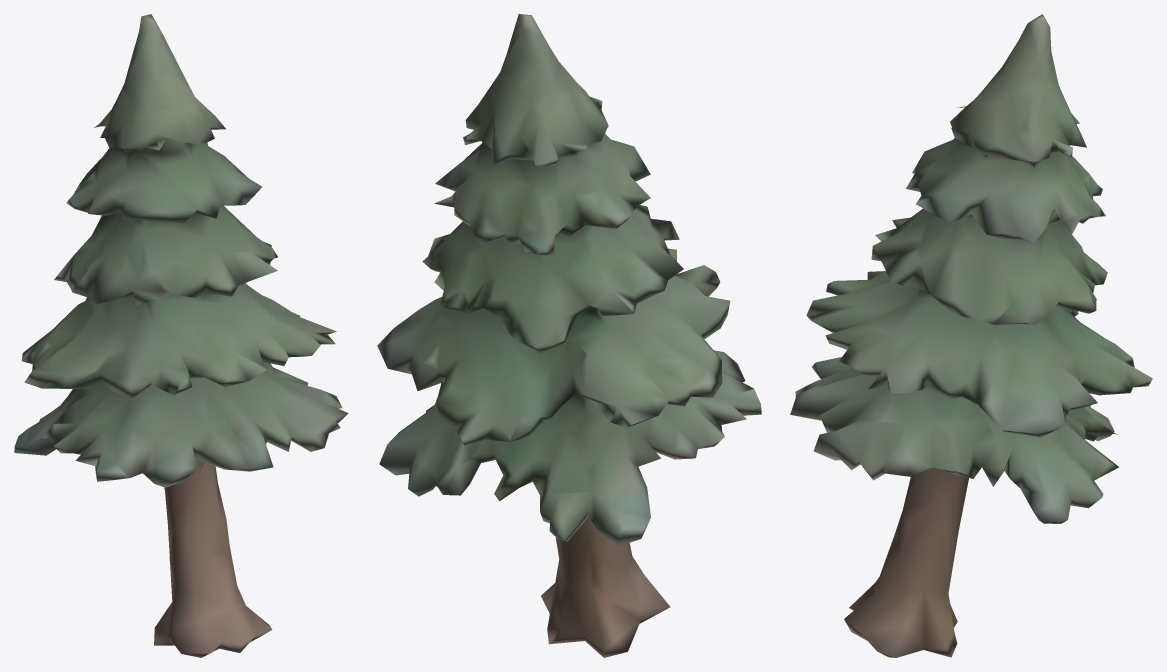
File: pinheiro.glb
3 renders of one model, left to right at view 1: azimuth 30°, elevation 25°; view 2: azimuth 150°, elevation 25°; view 3: azimuth 270°, elevation 25°, orthographic. The views are drawn at different scales.
Bounding box in the file's own units: 0.4605 × 0.9357 × 0.4878.
